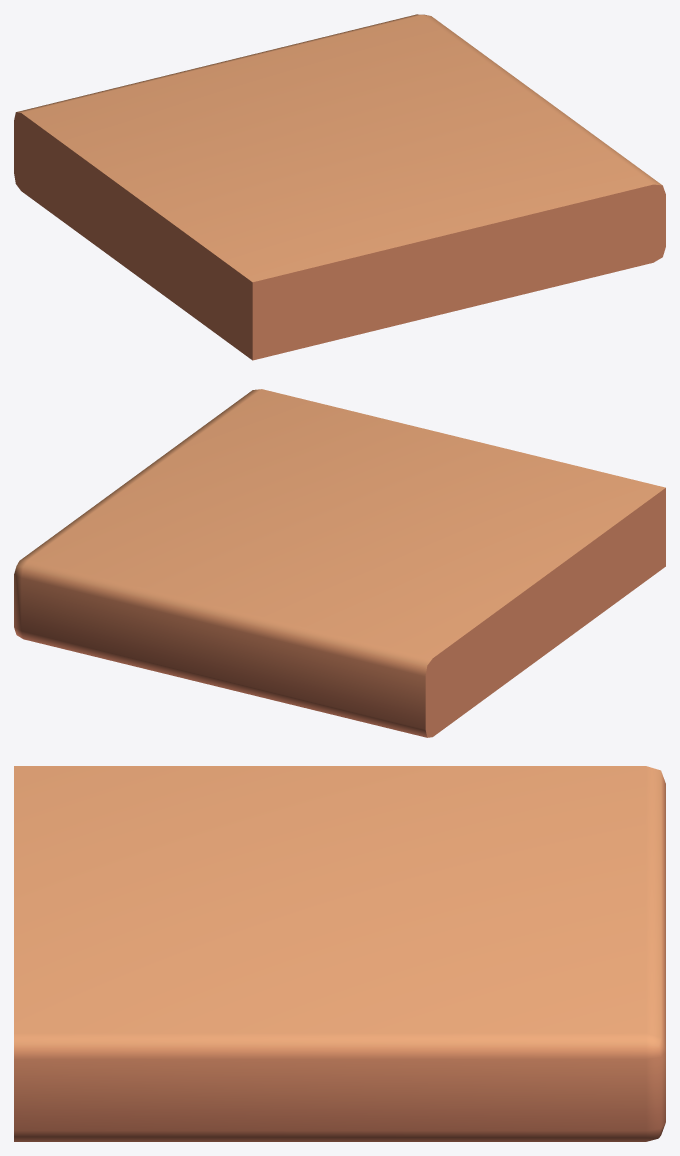
File: stool_cap.fbx
The picture shows the model from 3 angles, top to bottom: view 1: azimuth 30°, elevation 25°; view 2: azimuth 150°, elevation 25°; view 3: azimuth 270°, elevation 25°; orthographic projection. The views are drawn at different scales.
Visible parts, largest first — view 1: stool_cap; view 2: stool_cap; view 3: stool_cap.
Boxes of the visible parts, x1,y1,x2,y2 form: stool_cap: (14, 14, 665, 360); stool_cap: (14, 389, 665, 737); stool_cap: (14, 766, 665, 1141).
Size of the model in its own units: 66.36 by 66.36 by 12.
Materials: 1 (1 with a texture image).
